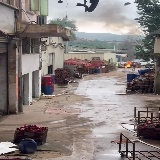fire: (124, 62, 131, 66)
